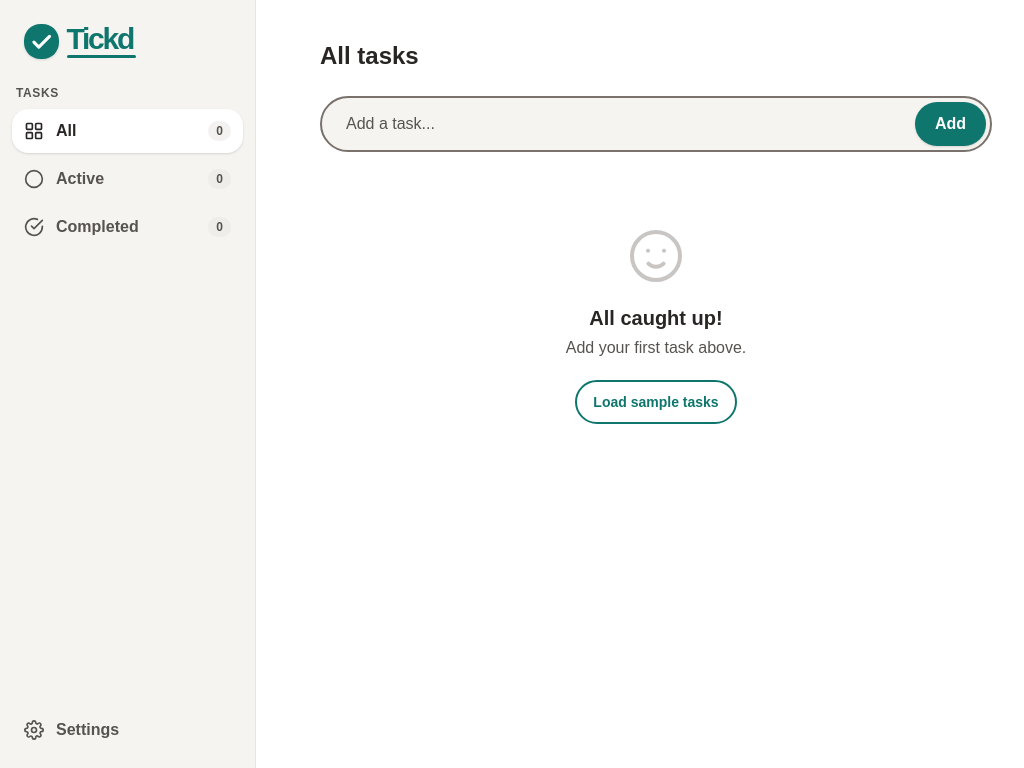
Test: dismisses a quota alert
Type "Still added" into the field labelled "Add a task". click: (656, 124)
box: [320, 96, 992, 152]
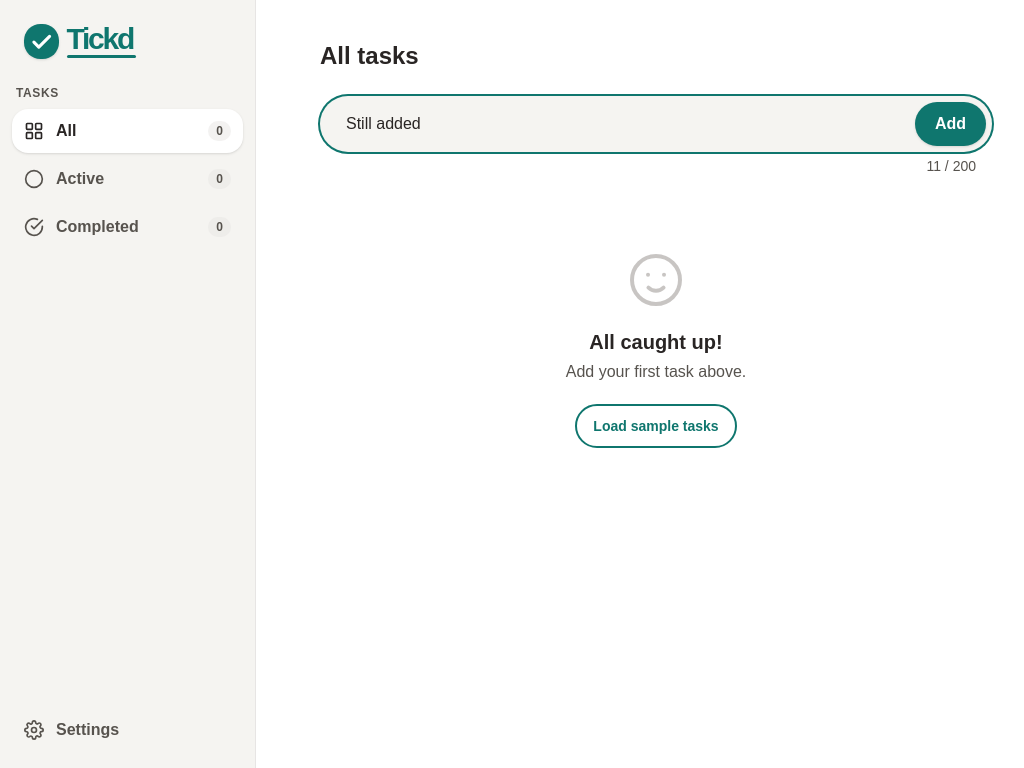
Click the button "Add". click: (950, 124)
box: [915, 102, 986, 146]
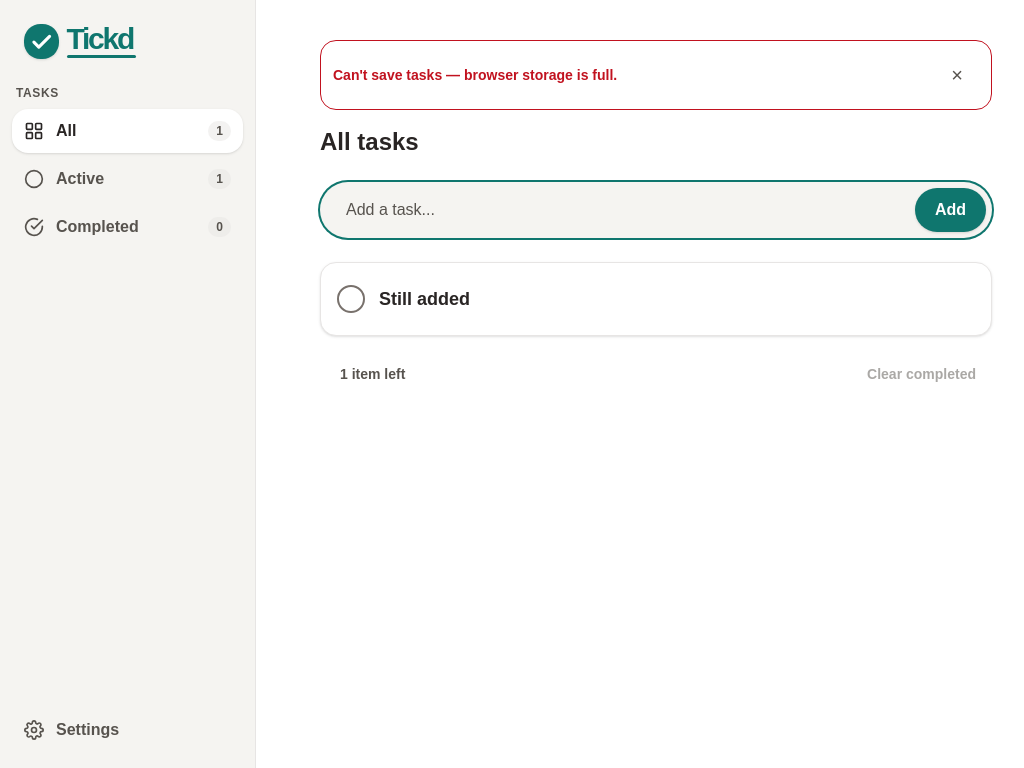
Click the button named "Dismiss". click: (957, 75)
box: [935, 53, 979, 97]
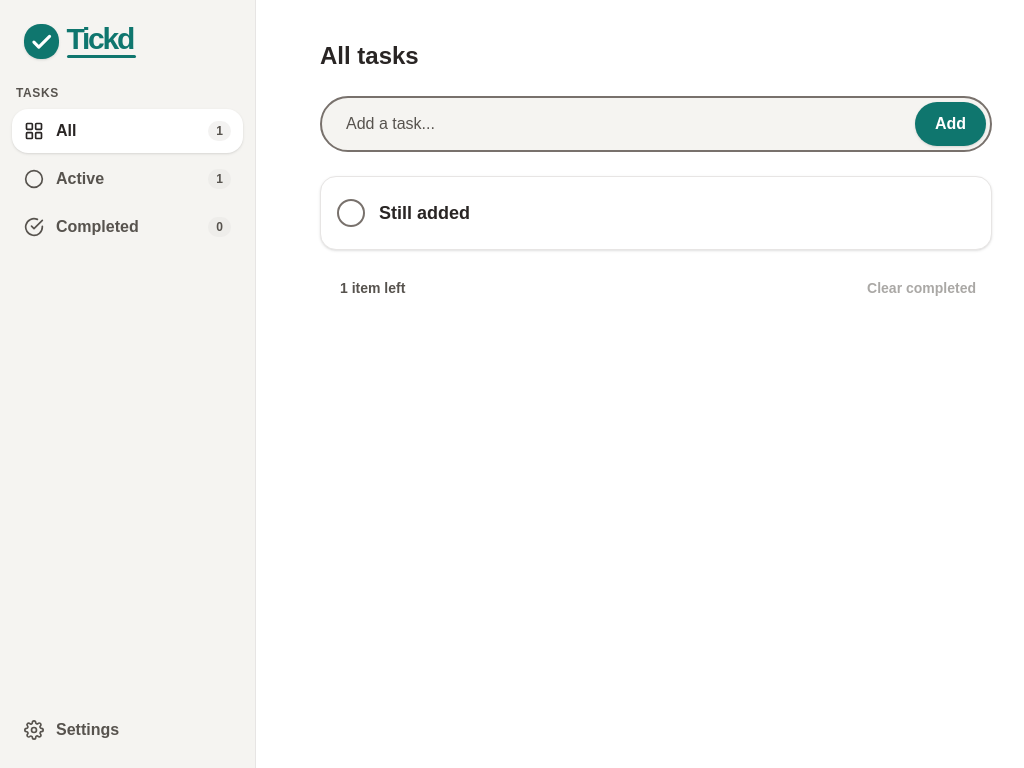
expect the button "Still added" is shown: met, box [379, 191, 929, 235]
expect the text "Can't save tasks — browser storage is full." is gone: met
